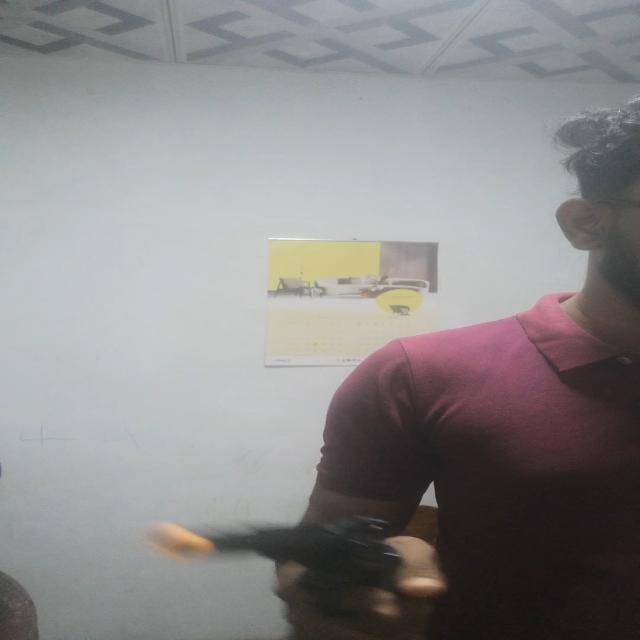Gun_Holder: (153, 505, 430, 640)
Person: (293, 101, 639, 640)
